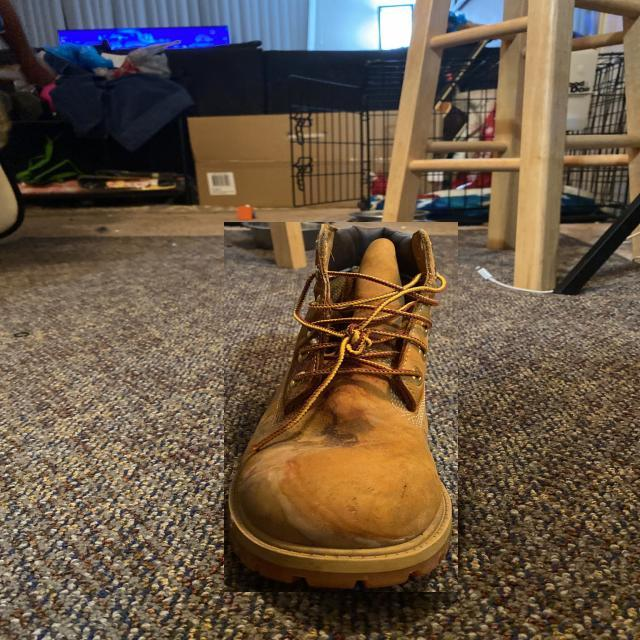shoe: (224, 222, 458, 592)
